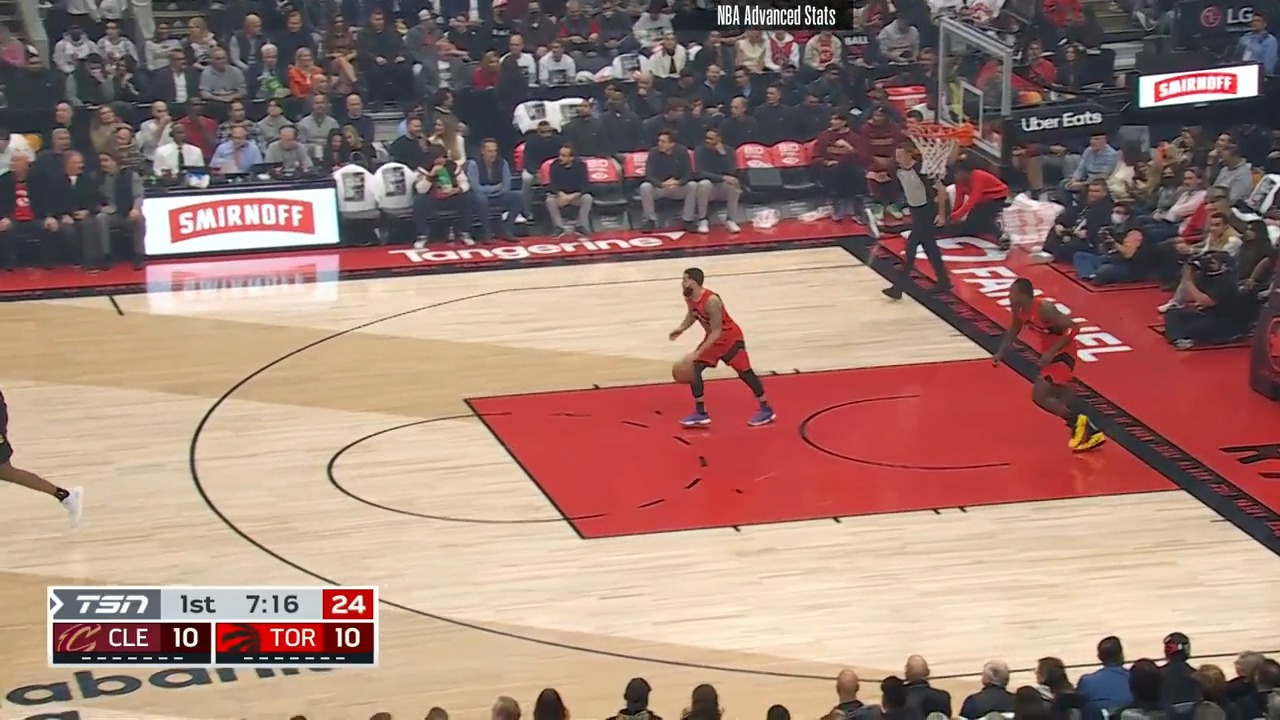net: (904, 115, 976, 179)
player: (992, 278, 1100, 461), (665, 268, 776, 435), (1, 343, 81, 547)
referee: (874, 145, 950, 307)
